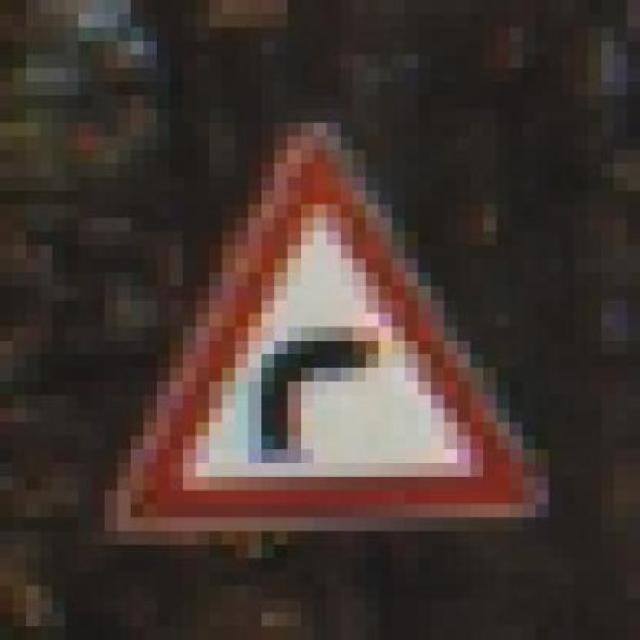Dangerous Rright Curve Ahead: (65, 96, 562, 544)
